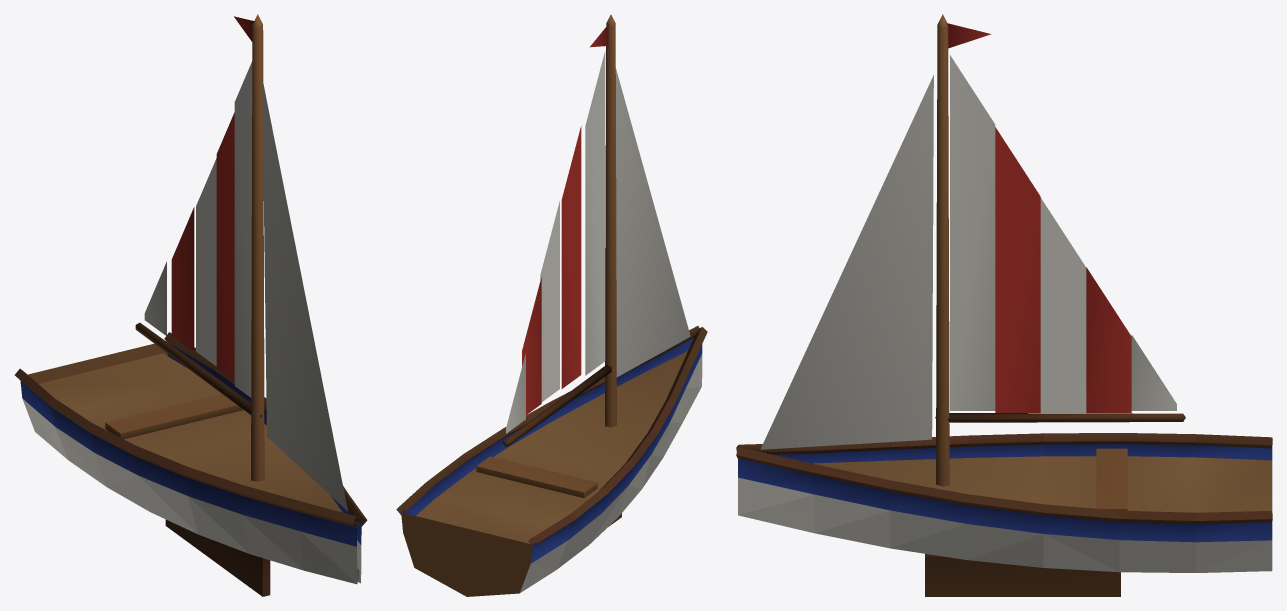
Rendered from SailBoat.fbx.
3 renders of one model, left to right at view 1: azimuth 30°, elevation 25°; view 2: azimuth 150°, elevation 25°; view 3: azimuth 270°, elevation 25°, orthographic. The views are drawn at different scales.
Visible parts, largest first — view 1: SailBoat; view 2: SailBoat; view 3: SailBoat.
Part boxes in pixels (left/top/right/bottom): SailBoat: left=14, top=14, right=367, bottom=596; SailBoat: left=396, top=14, right=707, bottom=596; SailBoat: left=736, top=14, right=1272, bottom=596.
Size of the model in its own units: 2.23 by 7.2 by 6.03.
